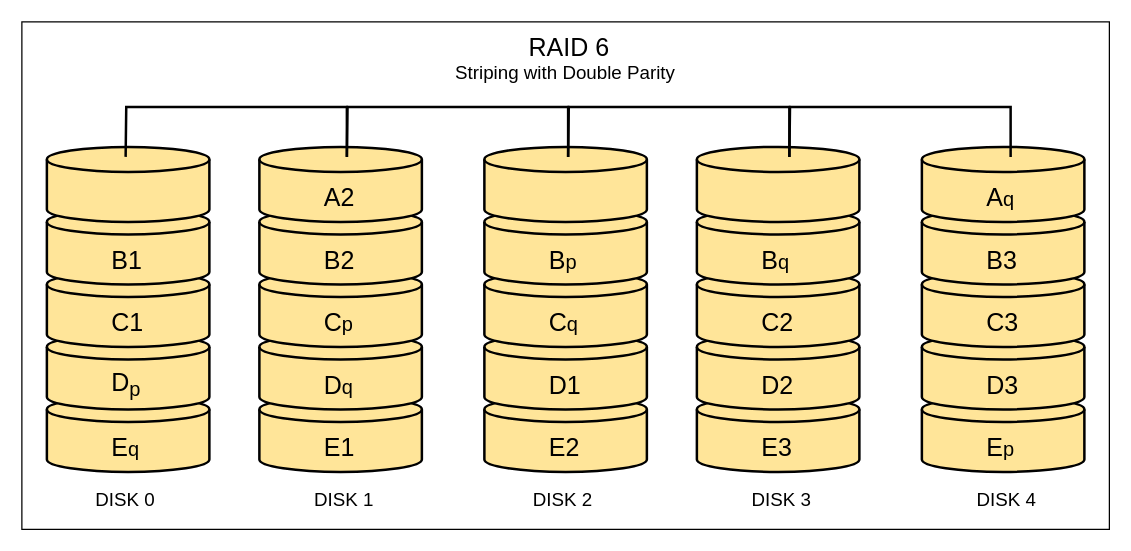
Some shapes in this 1131 by 551 pixel diagram are drawn without their labels. Here are the shapes that lost their labels. From the top down, the centre of each, then its label:
At pixel 127 183: "A1".
At pixel 565 183: "A3".
At pixel 777 183: "A p".
